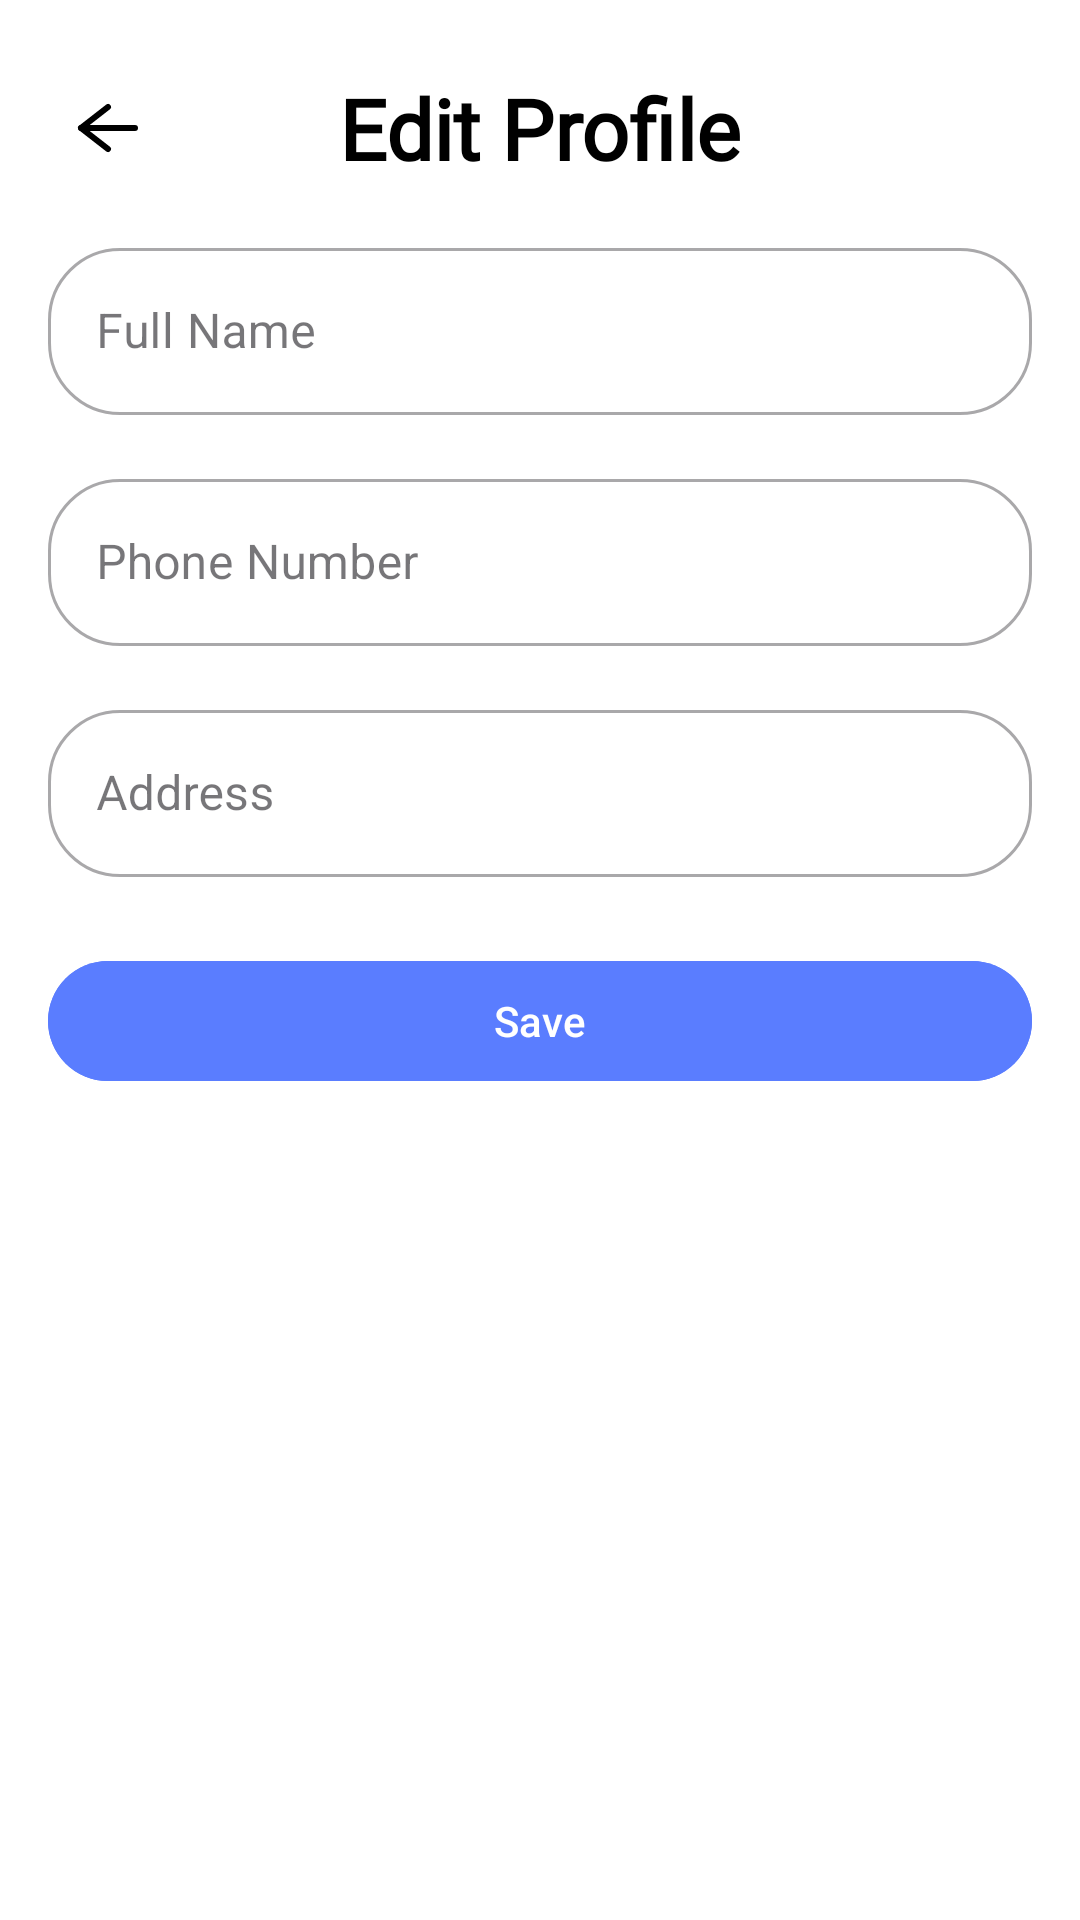

Icon bounding boxes for this 1080*1920 phone screenshot, format (x1, y1, x2, y2):
Back: (77, 104, 138, 152)
